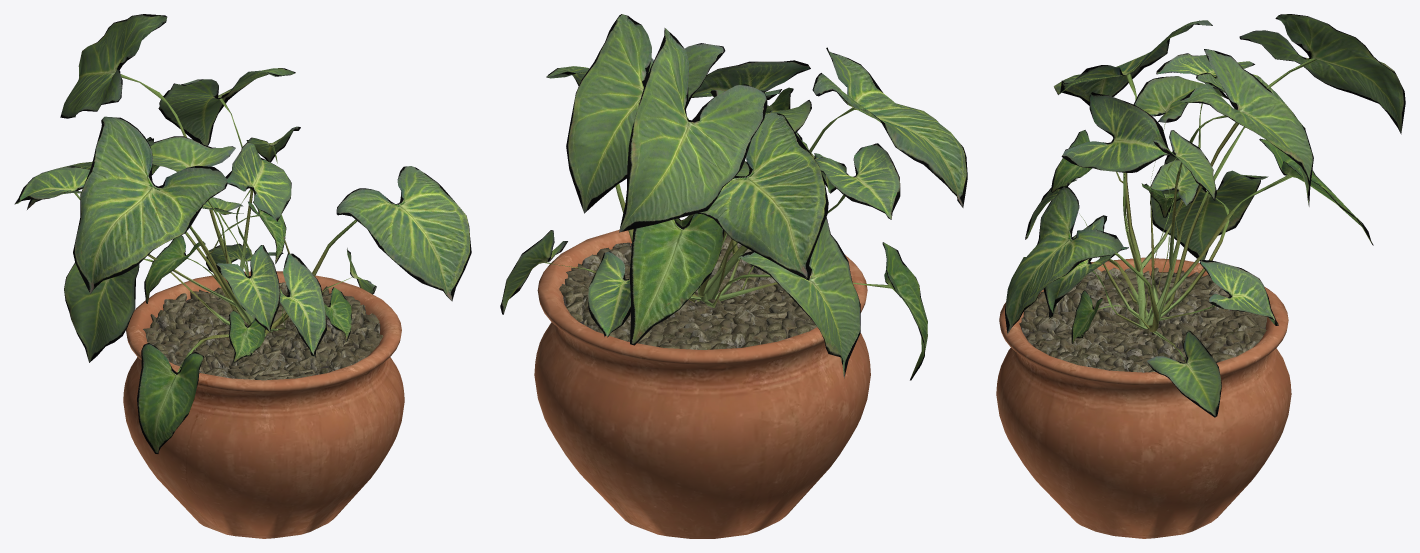
File: plant-wide-1k.glb
3 renders of one model, left to right at view 1: azimuth 30°, elevation 25°; view 2: azimuth 150°, elevation 25°; view 3: azimuth 270°, elevation 25°, orthographic. The views are drawn at different scales.
Parts seen in each view (by area): view 1: potted_plant_02_leaves, potted_plant_02_pot; view 2: potted_plant_02_leaves, potted_plant_02_pot; view 3: potted_plant_02_pot, potted_plant_02_leaves.
Part boxes in pixels (box(x1,y1,x2,y2)): potted_plant_02_leaves: box(14, 14, 471, 453); potted_plant_02_pot: box(123, 271, 404, 538); potted_plant_02_leaves: box(500, 14, 967, 380); potted_plant_02_pot: box(534, 220, 870, 538); potted_plant_02_pot: box(996, 257, 1291, 538); potted_plant_02_leaves: box(1005, 14, 1405, 417).
Size of the model in its own units: 0.7009 by 0.8411 by 0.6574.
2 materials, 2 textured.
